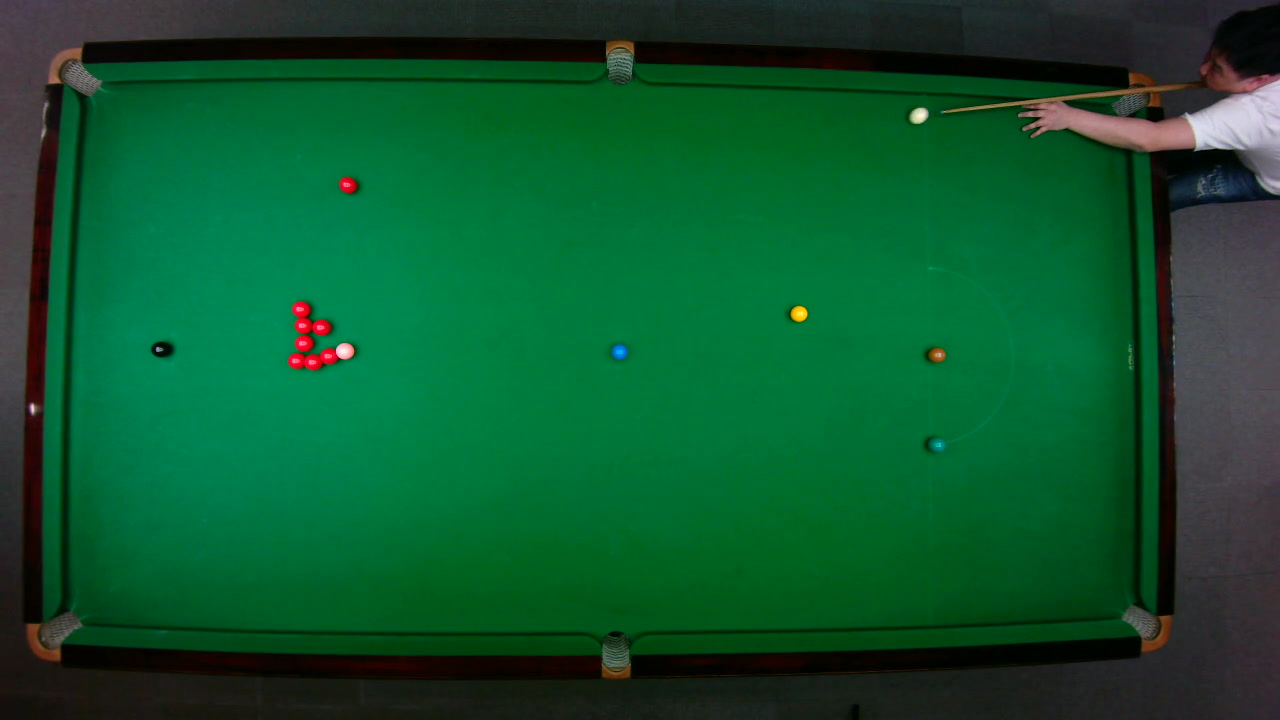bag: (25, 609, 83, 662), (45, 46, 101, 96), (1119, 603, 1171, 652), (1109, 71, 1162, 117), (600, 629, 630, 680), (605, 38, 633, 85)
black: (149, 339, 171, 357)
blue: (610, 342, 628, 360)
brown: (926, 346, 946, 362)
cue: (937, 79, 1209, 116)
green: (926, 435, 946, 452)
pink: (334, 341, 355, 360)
red: (337, 175, 358, 194), (290, 299, 311, 317), (302, 352, 323, 370), (310, 317, 331, 335), (318, 346, 337, 365), (293, 334, 313, 352), (286, 351, 305, 369), (292, 317, 312, 333)
white: (907, 105, 929, 124)
yellow: (788, 304, 808, 322)
zone: (926, 265, 1014, 445)
